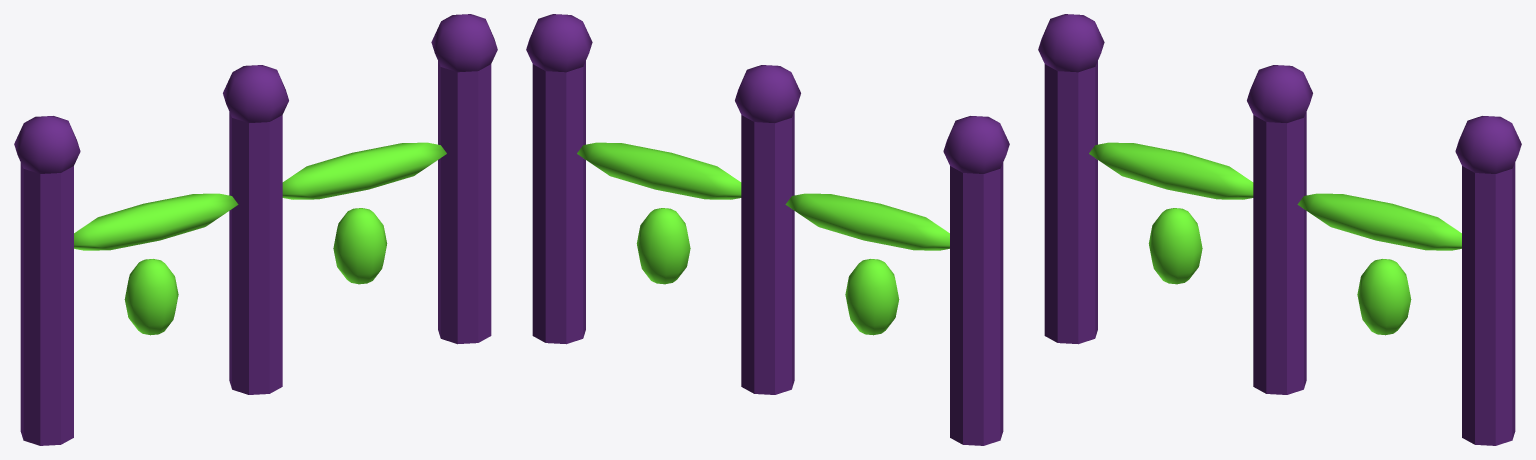
File: SlimeFence.obj
3 views of the same model, side by side, from view 1: azimuth 30°, elevation 25°; view 2: azimuth 150°, elevation 25°; view 3: azimuth 330°, elevation 25° (orthographic).
Visible parts, largest first — view 1: SlimeFence; view 2: SlimeFence; view 3: SlimeFence.
Boxes of the visible parts, x1=… form: SlimeFence: x1=14, y1=14, x2=497, y2=445; SlimeFence: x1=526, y1=14, x2=1009, y2=445; SlimeFence: x1=1038, y1=14, x2=1521, y2=445.
Size of the model in its own units: 0.8 by 0.51 by 0.1.
